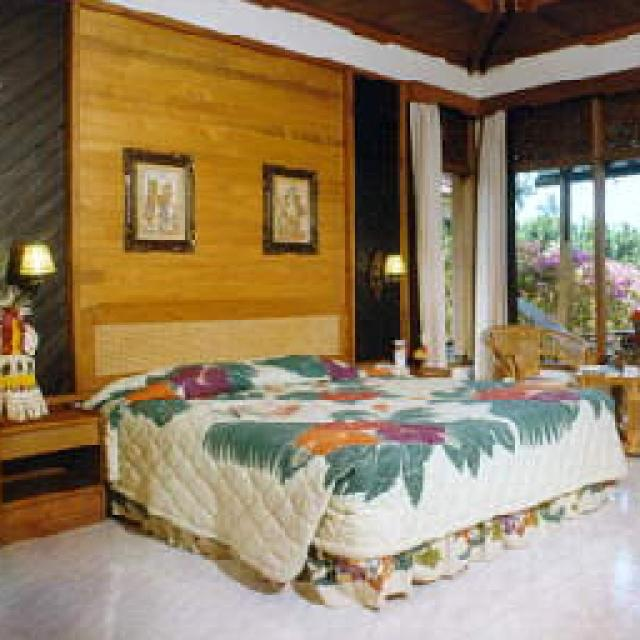2001: (512, 158, 632, 355), (438, 168, 465, 355)
bed -occluded-: (75, 352, 622, 602)
bouquet: (0, 365, 40, 410)
ceiling beam: (108, 0, 635, 98)
chair -occluded-: (485, 320, 582, 378)
curtain crop: (408, 102, 445, 362), (472, 110, 502, 375)
lamp crop: (2, 240, 52, 292), (365, 250, 405, 298)
night stand cabinet: (0, 400, 105, 535)
painting crop: (122, 145, 190, 250), (258, 160, 318, 252)
small table part: (578, 362, 635, 448)
